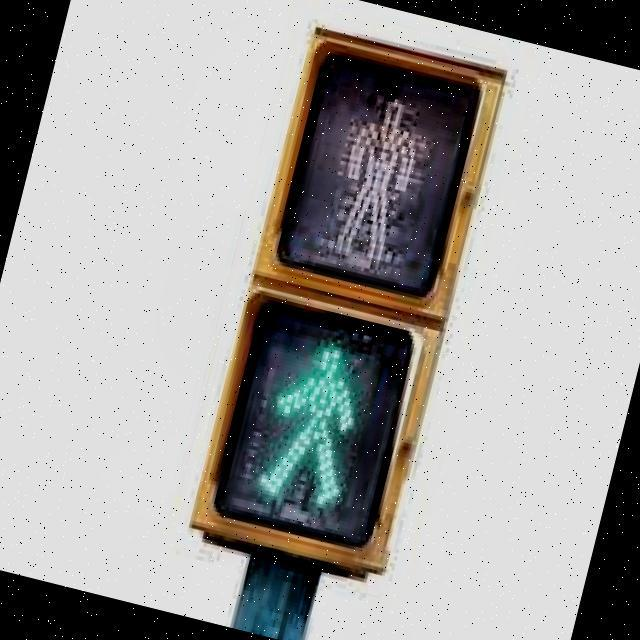green_light: (252, 328, 378, 516)
